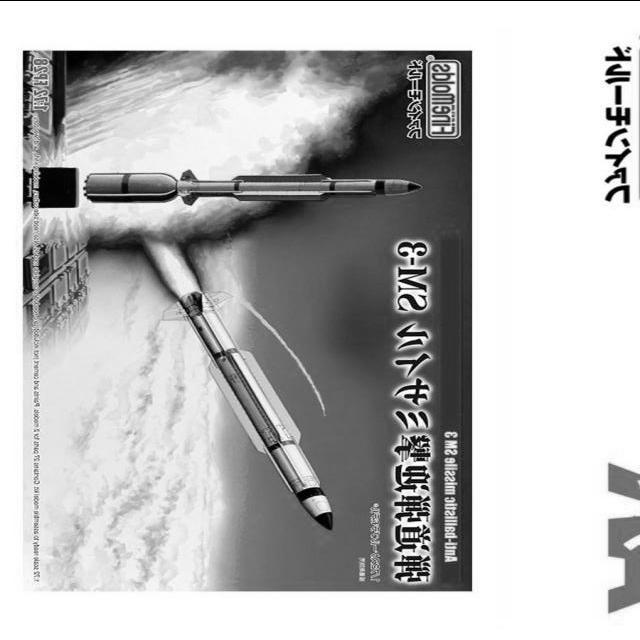missile: (157, 286, 343, 533), (69, 164, 434, 206)
